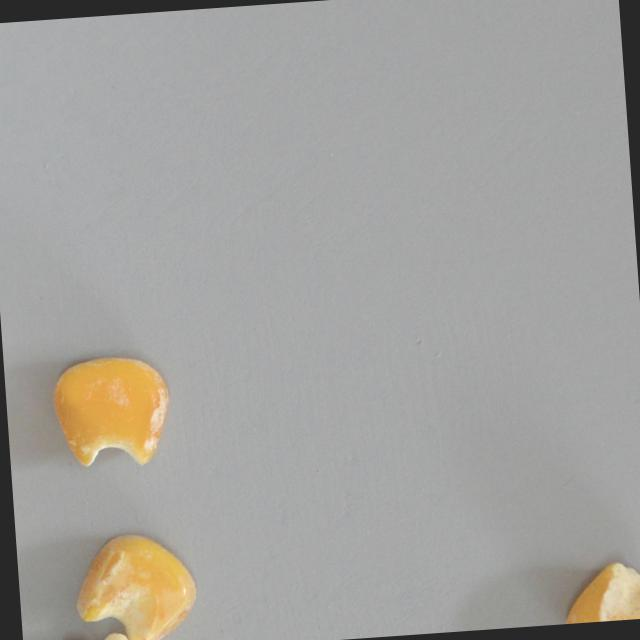dañado: (44, 347, 176, 475), (68, 524, 201, 640)
no_canjicado: (45, 625, 142, 640)
punto_negro: (554, 555, 640, 624)
